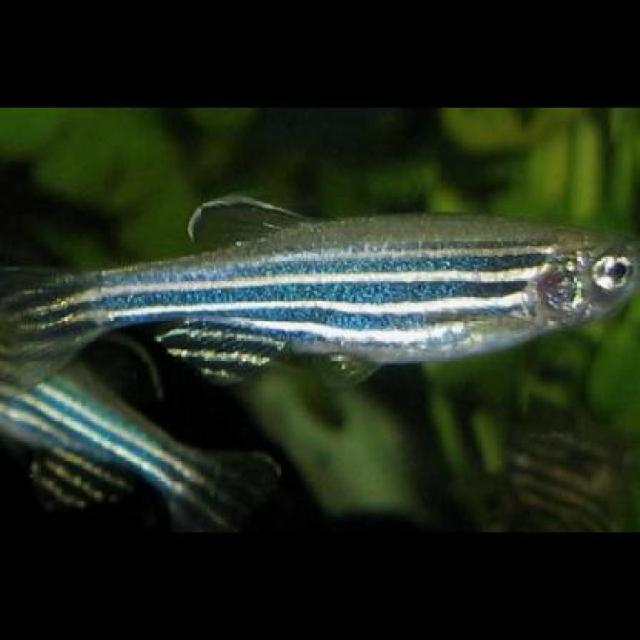ZebraFish: (0, 182, 638, 395)
